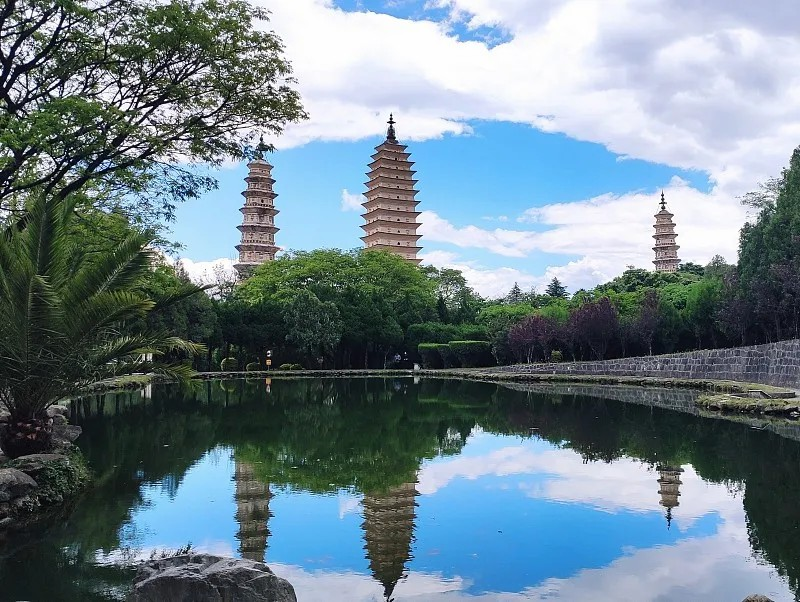ThreePagoda: (360, 112, 423, 263)
